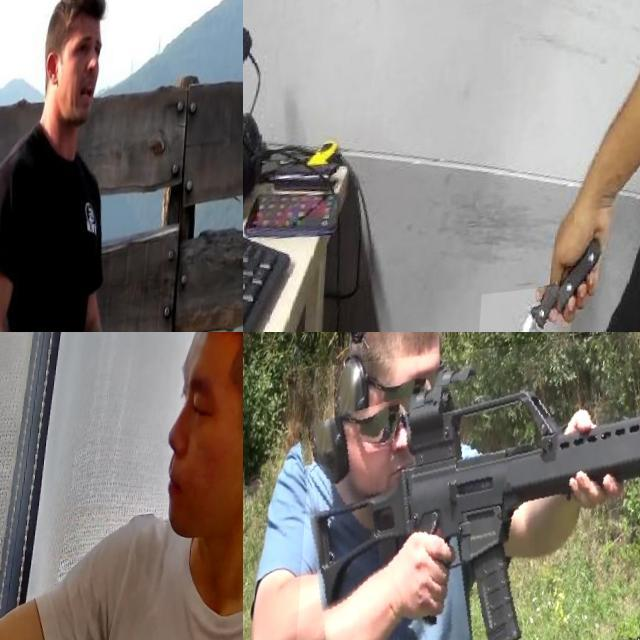-: (480, 293, 579, 332)
gun-knife-thesis - v11 Yolov5 augmented: (300, 332, 640, 640), (0, 332, 48, 469)
